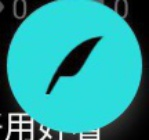ImgButton: (1, 1, 148, 139)
